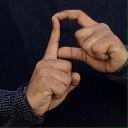hand: (25, 16, 81, 117), (51, 8, 127, 73)
